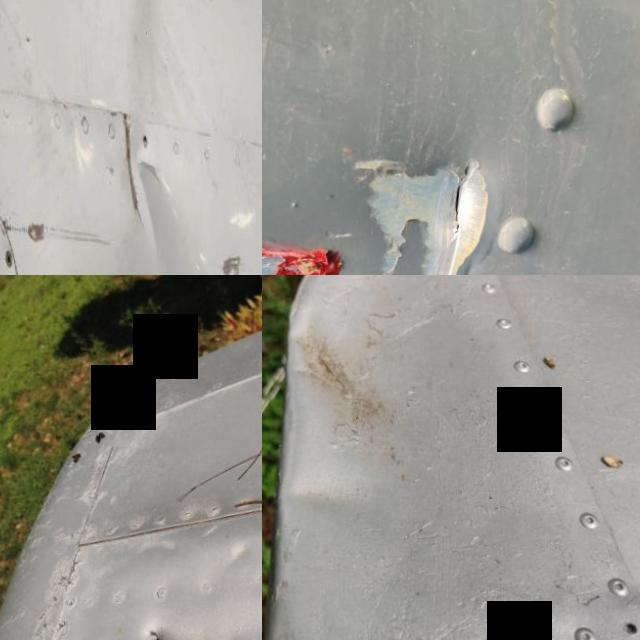Crack: (423, 150, 492, 250), (135, 616, 247, 640)
Dent: (262, 430, 394, 555), (133, 149, 177, 268)
